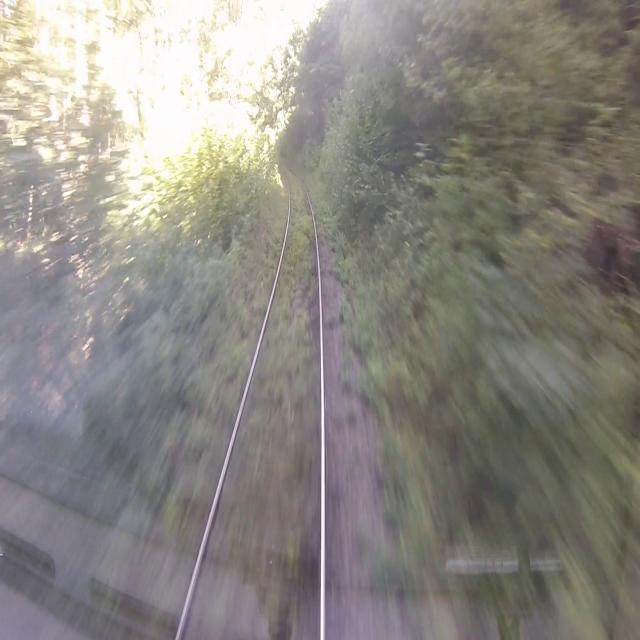Plant: (138, 149, 408, 639), (139, 159, 288, 639), (176, 164, 325, 639), (206, 174, 318, 639), (354, 519, 391, 594), (321, 206, 343, 286), (335, 332, 354, 391), (338, 297, 350, 322), (346, 404, 358, 427), (327, 313, 335, 329)
